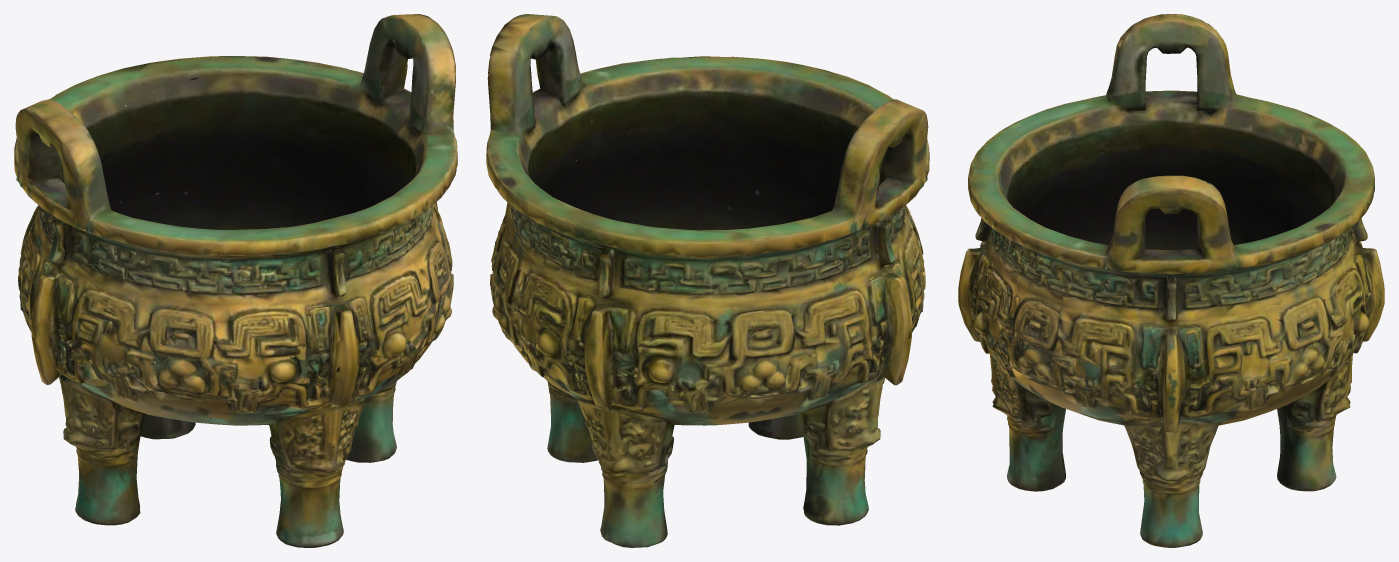
Rendered from bq_furnace.glb.
3 renders of one model, left to right at view 1: azimuth 30°, elevation 25°; view 2: azimuth 150°, elevation 25°; view 3: azimuth 270°, elevation 25°, orthographic. The views are drawn at different scales.
Size of the model in its own units: 1.69 by 1.66 by 1.69.
1 material, 1 textured.
